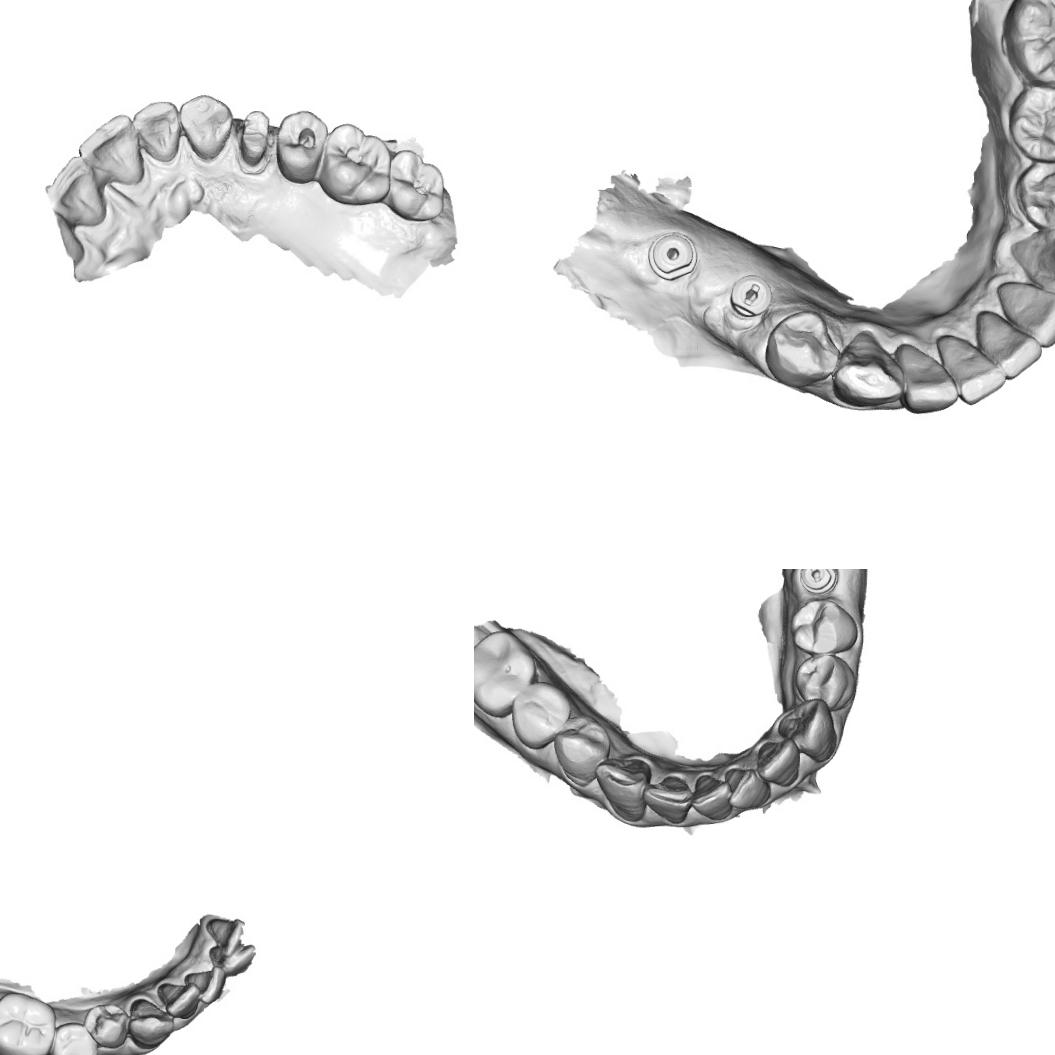canine: (832, 327, 908, 410), (774, 696, 842, 764), (176, 91, 236, 164), (590, 755, 649, 824), (1008, 220, 1055, 298), (124, 994, 177, 1054)
crown: (236, 108, 272, 173)
implant: (646, 229, 698, 283)
implant_minus: (726, 271, 772, 322), (797, 569, 839, 594)
incisor: (932, 330, 1008, 410), (74, 111, 150, 188), (972, 310, 1044, 382), (45, 152, 110, 229), (892, 342, 957, 419), (990, 277, 1055, 349), (130, 97, 184, 164), (641, 771, 694, 826), (753, 738, 803, 792), (720, 764, 775, 812), (688, 769, 735, 822), (183, 963, 228, 1005), (156, 980, 200, 1020), (202, 916, 244, 956), (206, 943, 260, 974)
molar: (318, 119, 396, 207), (474, 625, 538, 721), (997, 0, 1055, 90), (383, 148, 449, 222), (0, 988, 60, 1055)
premolar: (762, 306, 843, 390), (270, 105, 330, 185), (510, 678, 574, 752), (788, 596, 861, 658), (550, 718, 612, 788), (1003, 85, 1055, 165), (791, 654, 858, 711), (1014, 158, 1055, 229), (80, 1001, 130, 1051), (49, 1020, 101, 1055)
